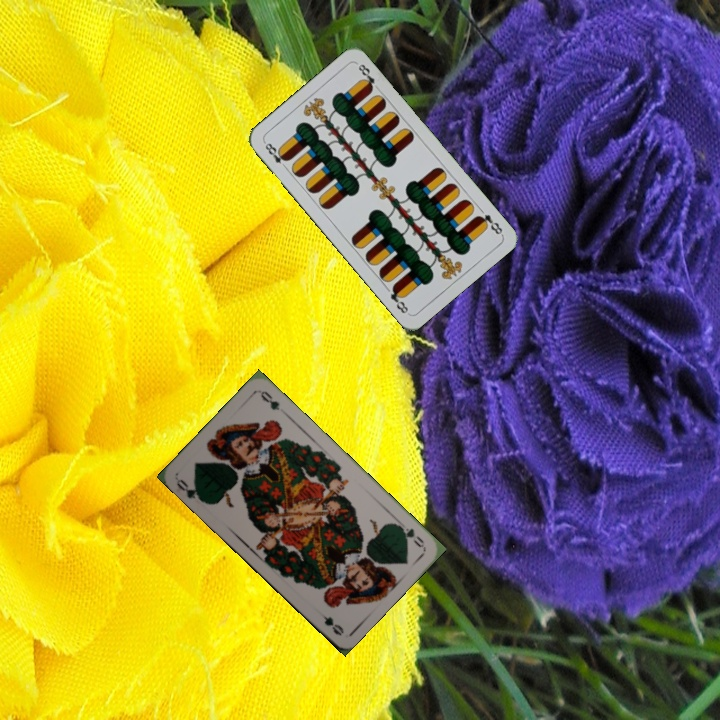E8: (260, 138, 291, 172), (472, 210, 505, 237)
GO: (172, 475, 208, 505), (393, 520, 427, 550)
